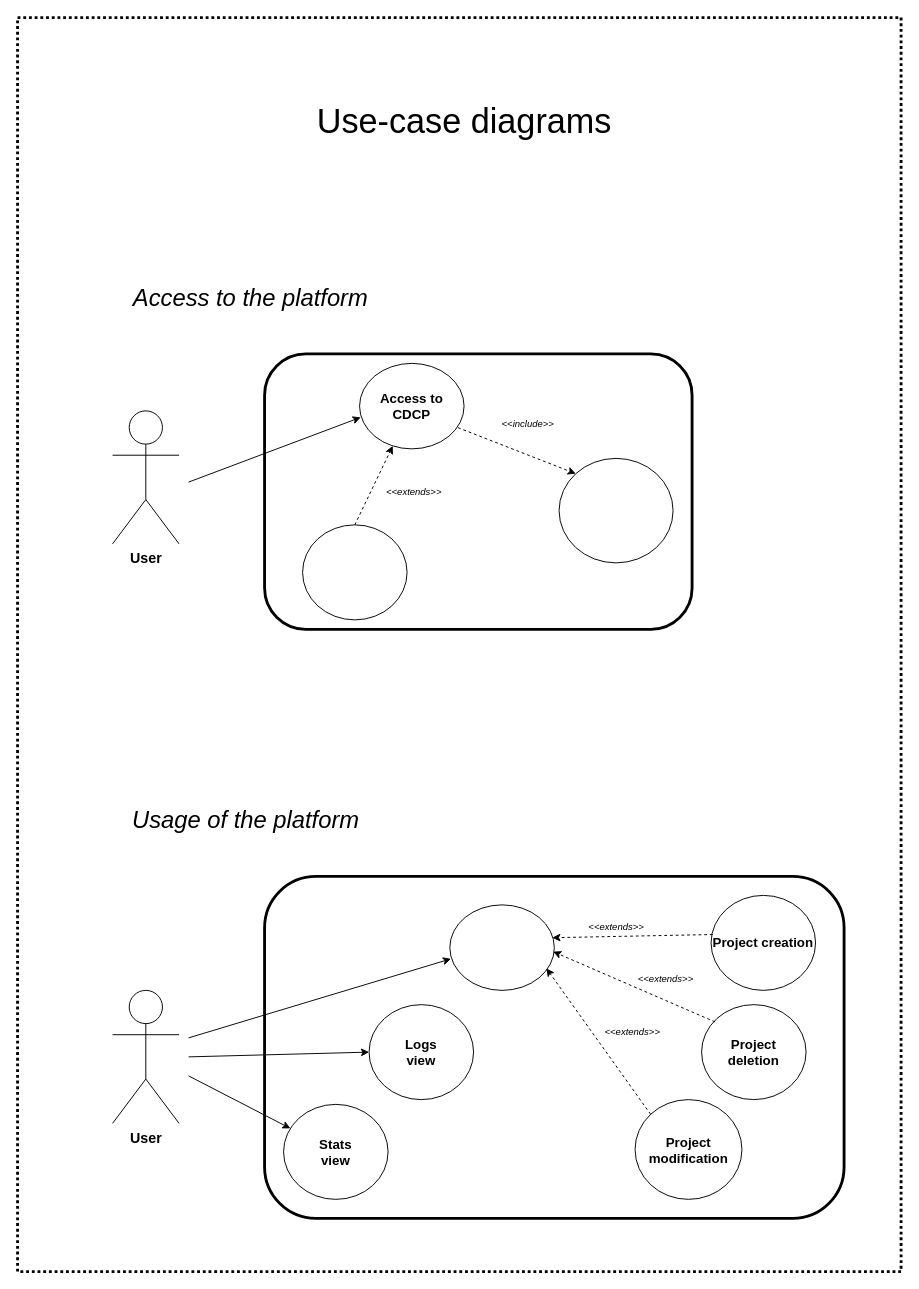
This 919x1289 diagram has some shape labels left out. Here are the shapes that lost their labels. From the top down, the box of each, then its label:
(558, 457, 673, 563): User's credentials verification
(302, 524, 407, 620): Registration to CDCP
(449, 904, 554, 990): Projects view
